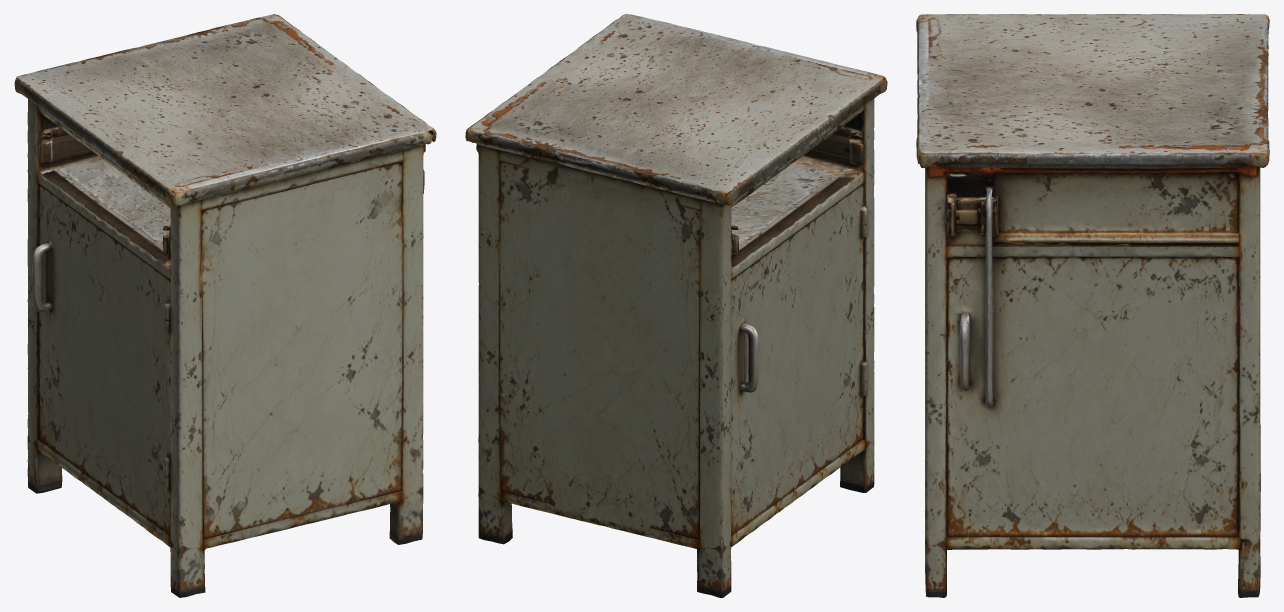
Rendered from CabinetBody.fbx.
The picture shows the model from 3 angles, left to right: view 1: azimuth 30°, elevation 25°; view 2: azimuth 150°, elevation 25°; view 3: azimuth 270°, elevation 25°; orthographic projection. The views are drawn at different scales.
Parts seen in each view (by area): view 1: texture_mapping; view 2: texture_mapping; view 3: texture_mapping.
Part boxes in pixels (x1=…): texture_mapping: x1=14, y1=14, x2=436, y2=597; texture_mapping: x1=465, y1=14, x2=887, y2=597; texture_mapping: x1=916, y1=14, x2=1269, y2=597.
Size of the model in its own units: 0.6995 by 0.7119 by 1.
1 material, 1 textured.
